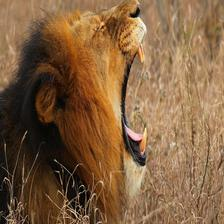Lion: (4, 0, 160, 217)
